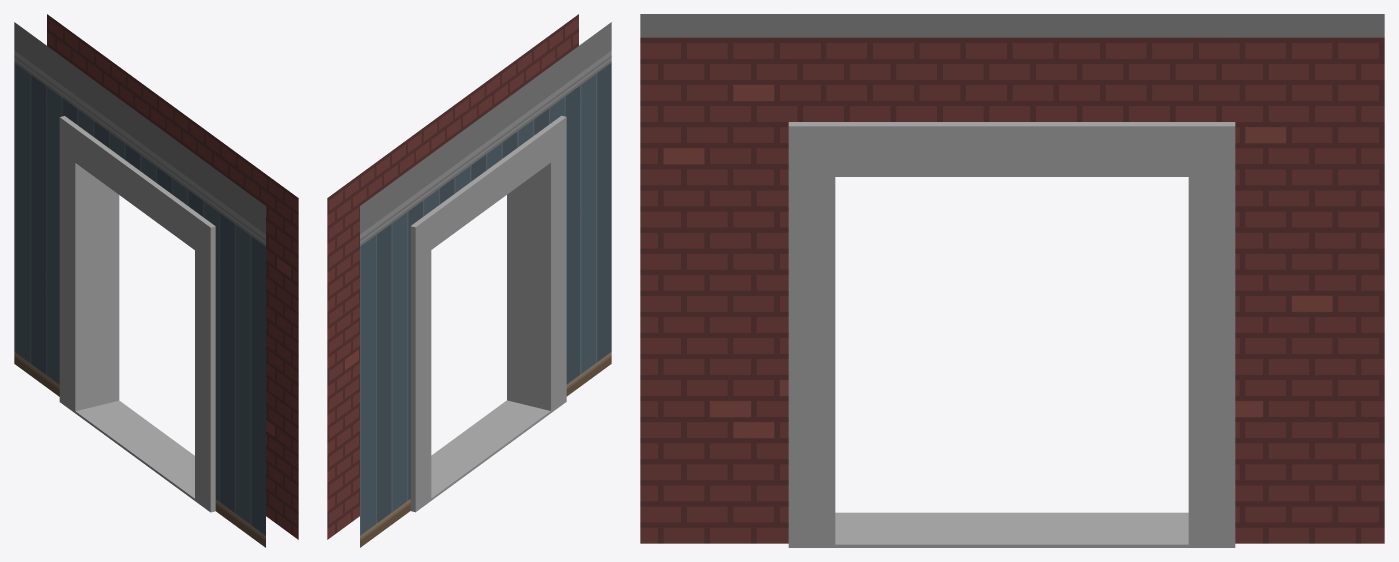
The model's file is SM_wall_BankSafe.glb.
3 renders of one model, left to right at view 1: azimuth 30°, elevation 25°; view 2: azimuth 150°, elevation 25°; view 3: azimuth 270°, elevation 25°, orthographic. The views are drawn at different scales.
Parts seen in each view (by area): view 1: SM_wall_BankSafe; view 2: SM_wall_BankSafe; view 3: SM_wall_BankSafe.
Boxes of the visible parts, x1,y1,x2,y2 form: SM_wall_BankSafe: (14, 14, 298, 547); SM_wall_BankSafe: (327, 14, 611, 547); SM_wall_BankSafe: (640, 14, 1384, 547).
Bounding box in the file's own units: 0.4044 × 3 × 4.
3 materials, 3 textured.
